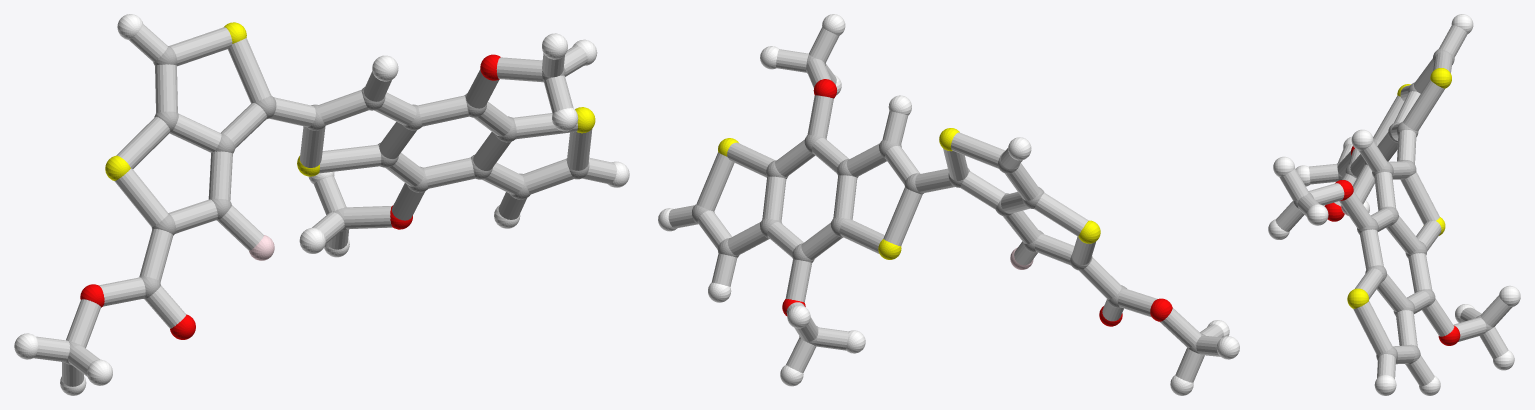
The model's file is color.glb.
3 renders of one model, left to right at view 1: azimuth 30°, elevation 25°; view 2: azimuth 150°, elevation 25°; view 3: azimuth 270°, elevation 25°, orthographic. The views are drawn at different scales.
Visible parts, largest first — view 1: grp15205, grp8689, grp1, grp13395, grp7241; view 2: grp15205, grp8689, grp1, grp7241, grp13395; view 3: grp15205, grp8689, grp1, grp7241, grp13395.
Part boxes in pixels (x1=…): grp15205: x1=33, y1=24, x2=616, y2=386; grp8689: x1=14, y1=14, x2=629, y2=395; grp1: x1=65, y1=46, x2=589, y2=365; grp13395: x1=80, y1=54, x2=500, y2=339; grp7241: x1=105, y1=22, x2=595, y2=180; grp15205: x1=668, y1=27, x2=1223, y2=382; grp8689: x1=658, y1=14, x2=1239, y2=395; grp1: x1=692, y1=55, x2=1205, y2=353; grp7241: x1=718, y1=128, x2=1100, y2=259; grp13395: x1=782, y1=79, x2=1172, y2=326; grp15205: x1=1275, y1=25, x2=1512, y2=386; grp8689: x1=1268, y1=14, x2=1520, y2=395; grp1: x1=1293, y1=48, x2=1493, y2=364; grp7241: x1=1347, y1=68, x2=1451, y2=308; grp13395: x1=1324, y1=146, x2=1460, y2=345.
Size of the model in its own units: 16.6 by 7.93 by 6.95.
